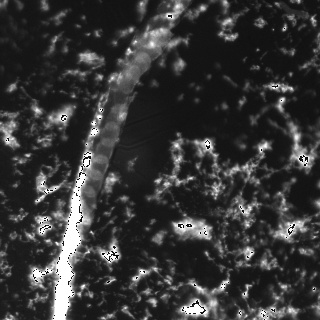embryo: (148, 13, 179, 33), (138, 30, 171, 48), (87, 154, 109, 180), (128, 52, 150, 78), (118, 66, 138, 94), (83, 169, 102, 197), (79, 186, 98, 213), (94, 138, 113, 164), (106, 103, 124, 130), (134, 44, 161, 62), (102, 121, 120, 147), (76, 203, 93, 230)
